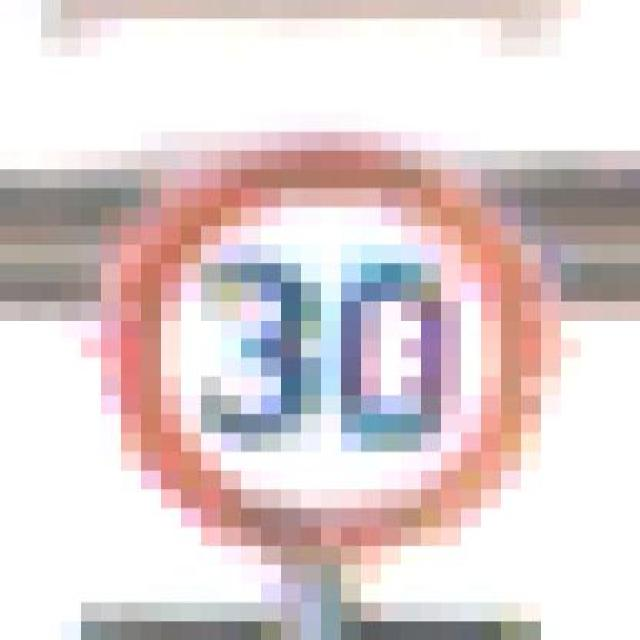Speed Limit 30 KMPh: (80, 94, 620, 603)
